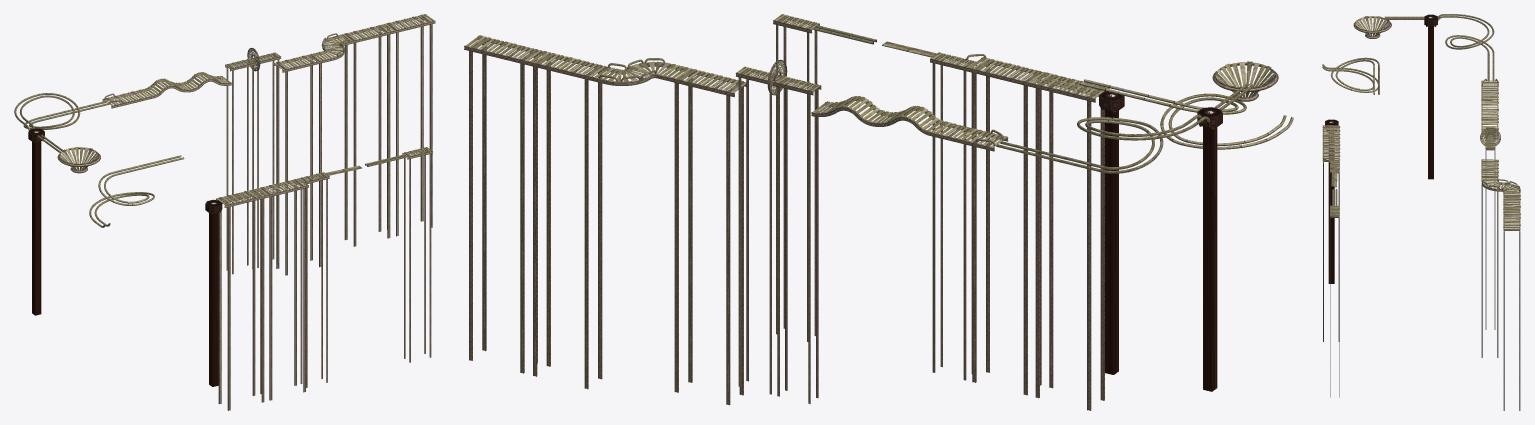
The picture shows the model from 3 angles, left to right: view 1: azimuth 30°, elevation 25°; view 2: azimuth 150°, elevation 25°; view 3: azimuth 270°, elevation 25°; orthographic projection. The views are drawn at different scales.
Visible parts, largest first — view 1: Ramp_001__45_, Ramp_001__42_, Ramp_001__44_, Ramp_001__41_, Ramp_001__43_, Ramp_001__32_, Ramp_001__31_, hakkero__5_, hakkero__4_, Ramp_001__30_, Ramp_001__29_, ramp_001 (+4 smaller); view 2: Ramp_001__42_, Ramp_001__45_, Ramp_001__43_, Ramp_001__44_, Ramp_001__41_, hakkero__4_, Ramp_001__31_, Ramp_001__30_, hakkero__5_, Ramp_001__29_, ramp_001, Ramp_001__32_ (+4 smaller); view 3: hakkero__4_, Ramp_001__41_, Ramp_001__43_, ramp_001, pipe, Ramp_001__44_, hakkero__5_, pipe__1_, Ramp_001__29_, scope_ramp, Ramp_001__32_, ramp (+3 smaller).
Part boxes in pixels (left/top/right/bottom): Ramp_001__45_: left=216, top=188, right=267, bottom=410; Ramp_001__42_: left=342, top=24, right=393, bottom=246; Ramp_001__44_: left=258, top=178, right=308, bottom=400; Ramp_001__41_: left=384, top=14, right=435, bottom=236; Ramp_001__43_: left=274, top=53, right=324, bottom=275; Ramp_001__32_: left=402, top=147, right=432, bottom=362; Ramp_001__31_: left=299, top=172, right=329, bottom=387; hakkero__5_: left=205, top=199, right=222, bottom=386; hakkero__4_: left=28, top=128, right=44, bottom=315; Ramp_001__30_: left=225, top=58, right=255, bottom=274; Ramp_001__29_: left=250, top=52, right=281, bottom=267; ramp_001: left=102, top=72, right=231, bottom=108; Ramp_001__42_: left=528, top=51, right=606, bottom=389; Ramp_001__45_: left=1032, top=72, right=1109, bottom=410; Ramp_001__43_: left=670, top=67, right=746, bottom=405; Ramp_001__44_: left=967, top=57, right=1045, bottom=395; Ramp_001__41_: left=464, top=35, right=542, bottom=373; hakkero__4_: left=1197, top=107, right=1222, bottom=391; Ramp_001__31_: left=930, top=52, right=976, bottom=380; Ramp_001__30_: left=774, top=76, right=821, bottom=403; hakkero__5_: left=1099, top=91, right=1124, bottom=374; Ramp_001__29_: left=735, top=66, right=782, bottom=394; ramp_001: left=811, top=96, right=1008, bottom=151; Ramp_001__32_: left=773, top=14, right=819, bottom=341; hakkero__4_: left=1424, top=14, right=1437, bottom=179; Ramp_001__41_: left=1503, top=212, right=1520, bottom=410; Ramp_001__43_: left=1481, top=159, right=1498, bottom=357; ramp_001: left=1481, top=80, right=1498, bottom=139; pipe: left=1438, top=14, right=1494, bottom=81; Ramp_001__44_: left=1322, top=143, right=1340, bottom=341; hakkero__5_: left=1325, top=119, right=1338, bottom=283; pipe__1_: left=1322, top=57, right=1379, bottom=94; Ramp_001__29_: left=1485, top=138, right=1495, bottom=329; scope_ramp: left=1353, top=16, right=1391, bottom=38; Ramp_001__32_: left=1330, top=205, right=1339, bottom=397; ramp: left=1481, top=177, right=1520, bottom=194.
Size of the model in its own units: 5312 by 3038 by 2308.
